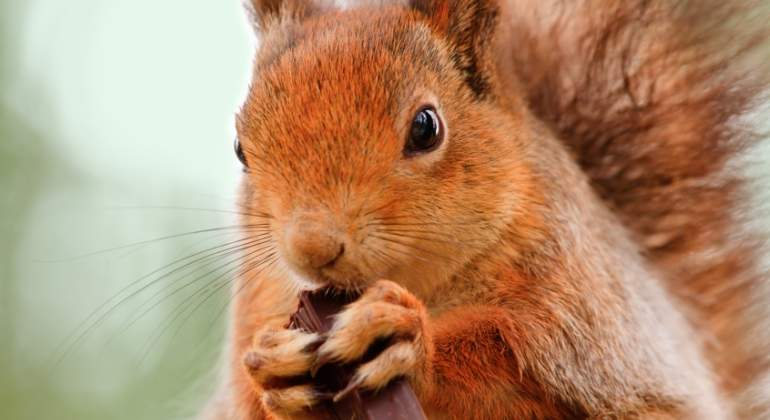Ardilla: (209, 16, 580, 418)
